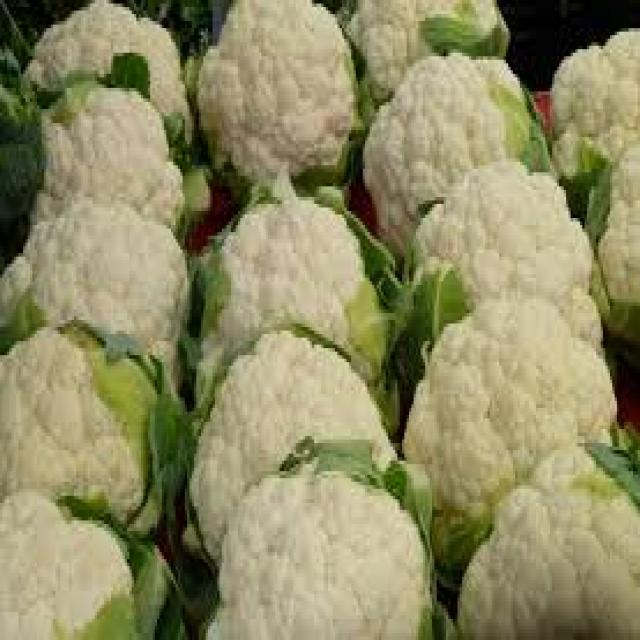organic waste: (402, 285, 617, 594), (176, 316, 400, 576), (187, 162, 402, 429), (393, 137, 610, 394), (187, 429, 448, 636), (0, 288, 183, 531), (360, 49, 550, 264), (450, 426, 638, 636), (0, 197, 199, 376), (187, 0, 372, 190), (21, 46, 185, 236), (0, 478, 183, 636), (18, 0, 190, 130), (335, 0, 506, 113), (545, 21, 638, 211), (582, 137, 638, 362), (0, 32, 42, 228)
